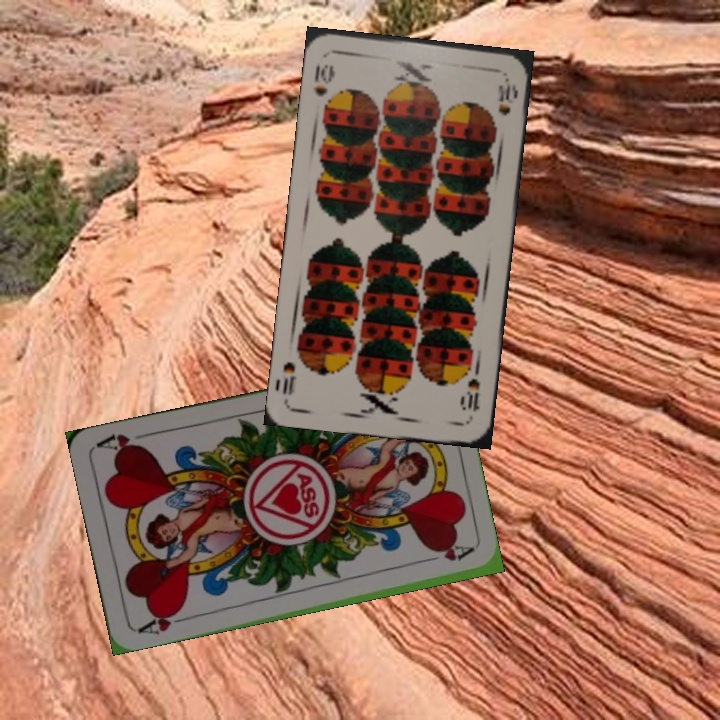HA: (134, 604, 191, 638)
S10: (310, 60, 336, 99), (459, 374, 482, 414)
